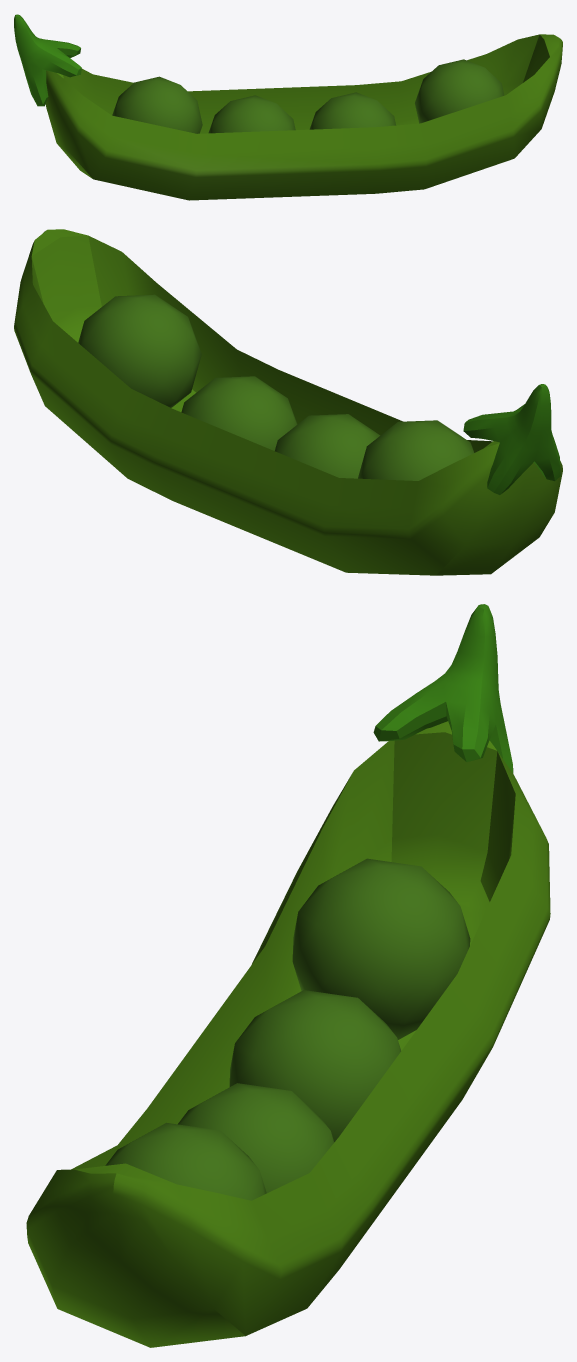
The model's file is RawPeas.fbx.
3 views of the same model, one above another, from view 1: azimuth 30°, elevation 25°; view 2: azimuth 150°, elevation 25°; view 3: azimuth 270°, elevation 25° (orthographic). The views are drawn at different scales.
Parts seen in each view (by area): view 1: Peas; view 2: Peas; view 3: Peas.
Part boxes in pixels (x1,y1,x2,y2): Peas: (14, 14, 562, 200); Peas: (14, 229, 562, 575); Peas: (26, 604, 550, 1347).
Bounding box in the file's own units: 39.98 × 16.43 × 19.81.
